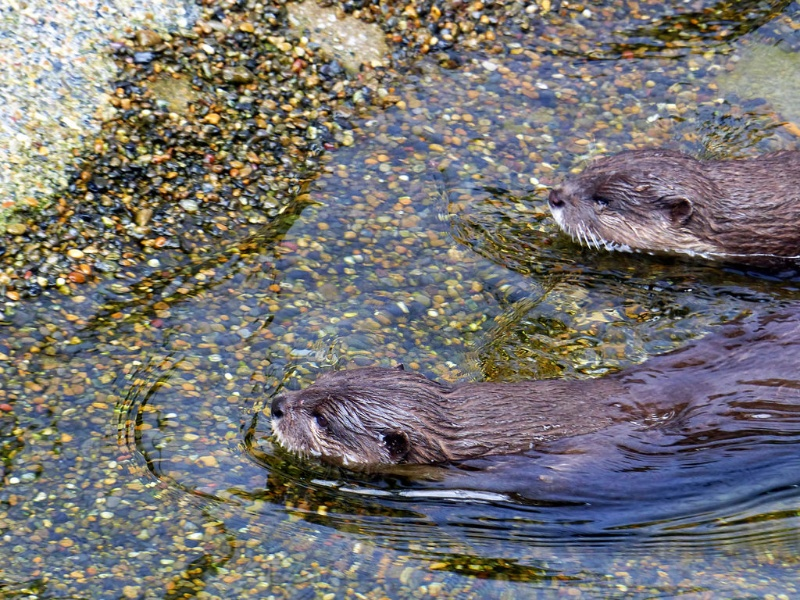minkish: (265, 351, 800, 514), (540, 144, 800, 269)
